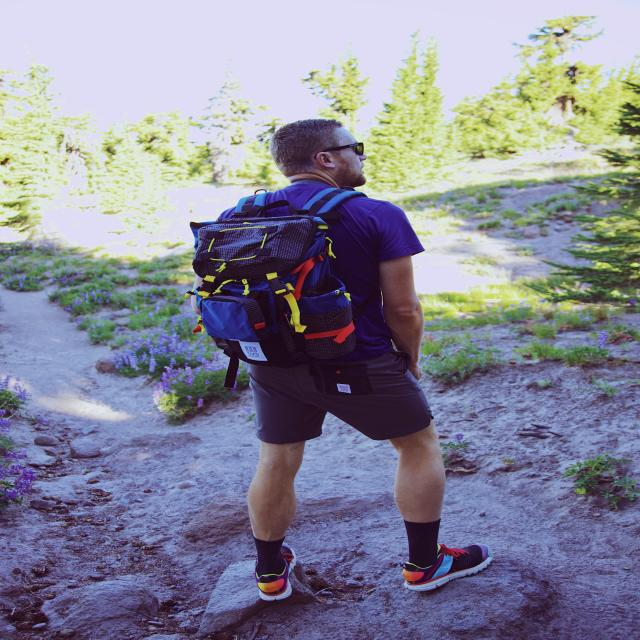backpack: (199, 187, 369, 367)
